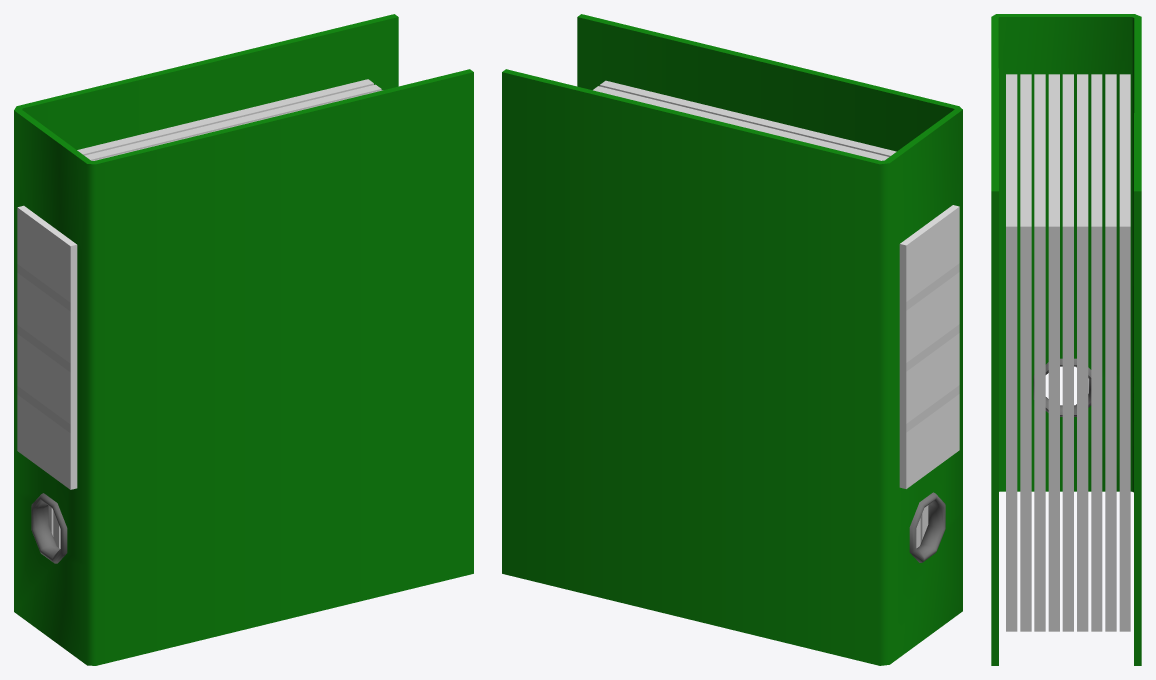
3 renders of one model, left to right at view 1: azimuth 30°, elevation 25°; view 2: azimuth 150°, elevation 25°; view 3: azimuth 270°, elevation 25°, orthographic. The views are drawn at different scales.
Visible parts, largest first — view 1: File02; view 2: File02; view 3: File02.
Part boxes in pixels (left/top/right/bottom): File02: left=14, top=14, right=473, bottom=665; File02: left=502, top=14, right=962, bottom=665; File02: left=991, top=14, right=1141, bottom=665.
Size of the model in its own units: 0.2751 by 0.0968 by 0.3374.
